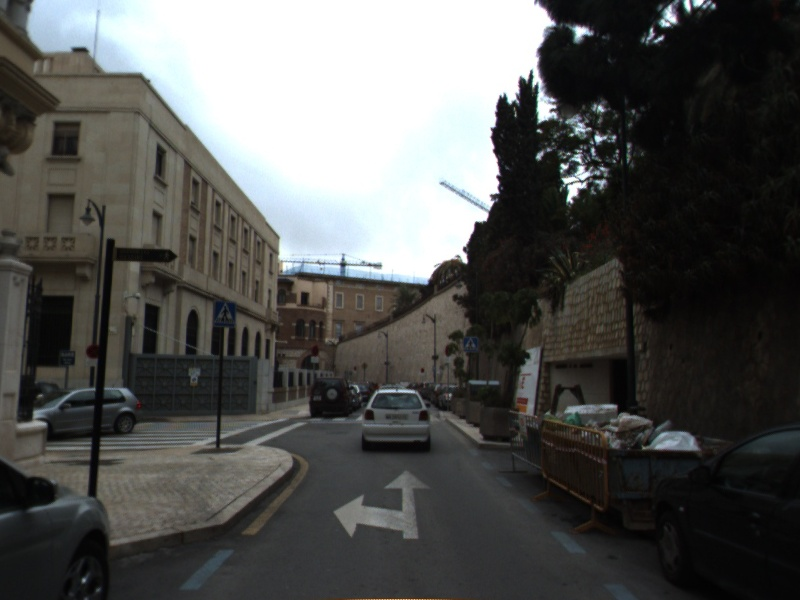STRAIGHT_LEFT: (331, 468, 432, 540)
